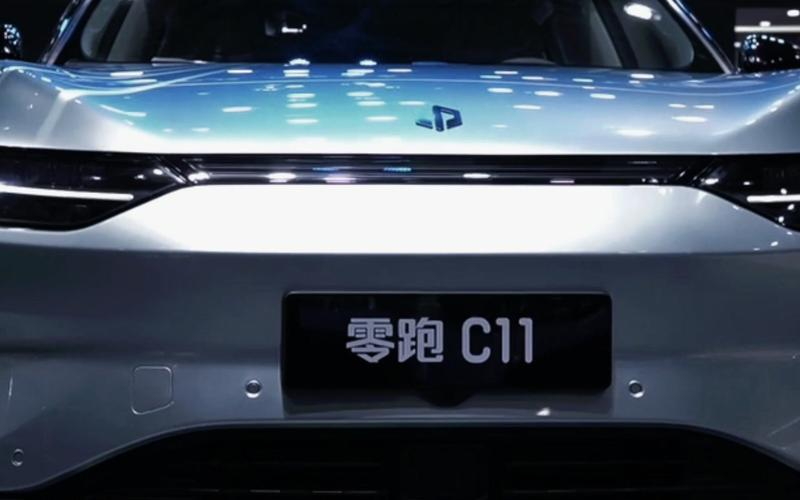LEAPMOTOR: (415, 104, 465, 132)
